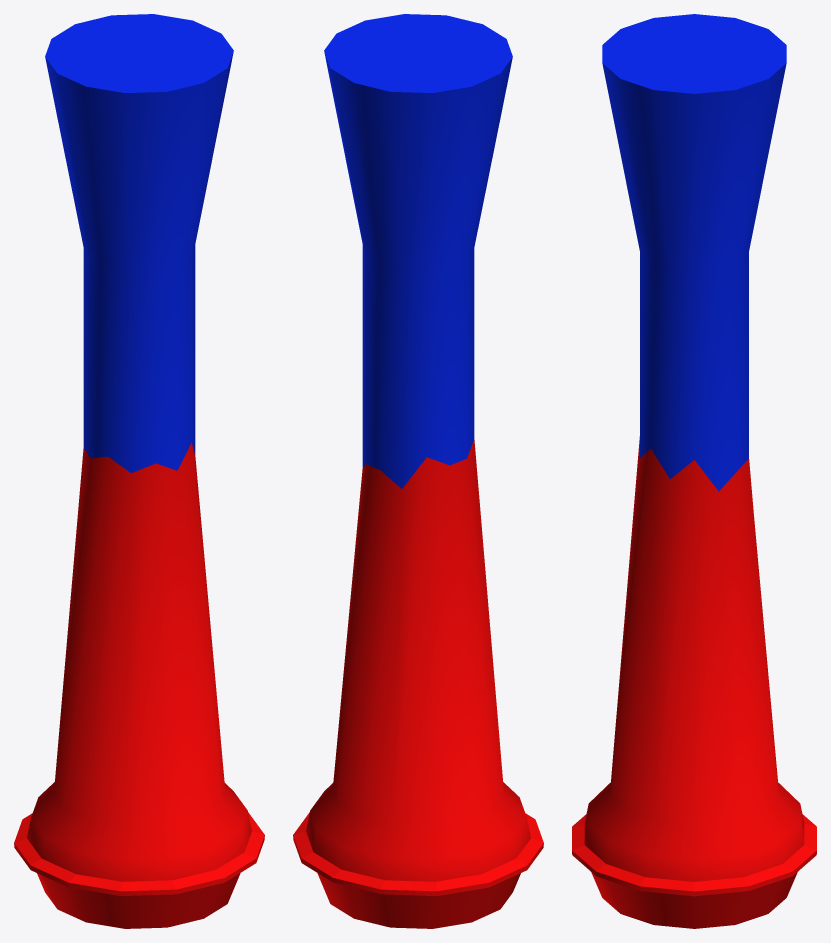
Rendered from body_A.FBX.
The picture shows the model from 3 angles, left to right: view 1: azimuth 30°, elevation 25°; view 2: azimuth 150°, elevation 25°; view 3: azimuth 270°, elevation 25°; orthographic projection.
Parts seen in each view (by area): view 1: pillar_A_bodydown, pillar_A_bodyup; view 2: pillar_A_bodydown, pillar_A_bodyup; view 3: pillar_A_bodydown, pillar_A_bodyup.
Part boxes in pixels (box(x1,y1,x2,y2)): pillar_A_bodydown: box(14, 443, 264, 928); pillar_A_bodyup: box(45, 14, 233, 473); pillar_A_bodydown: box(293, 439, 543, 928); pillar_A_bodyup: box(324, 14, 512, 488); pillar_A_bodydown: box(572, 436, 816, 928); pillar_A_bodyup: box(602, 14, 786, 491).
Size of the model in its own units: 10.62 by 38.95 by 10.36.
